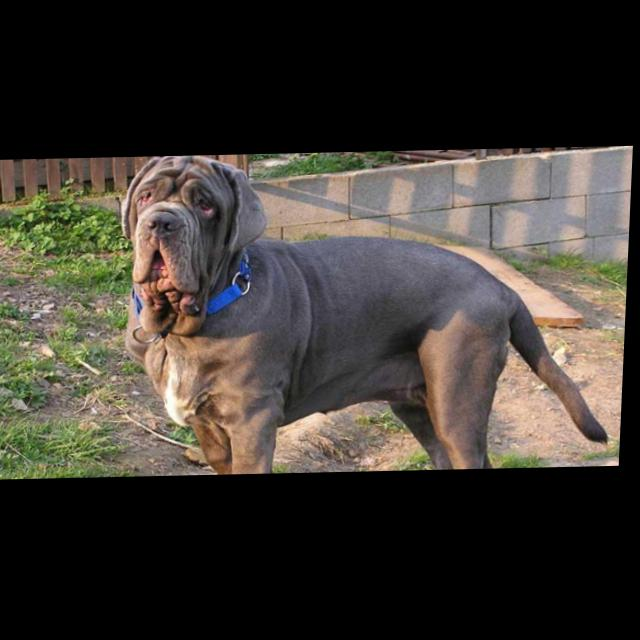mastino_napoletano: (115, 150, 624, 479)
